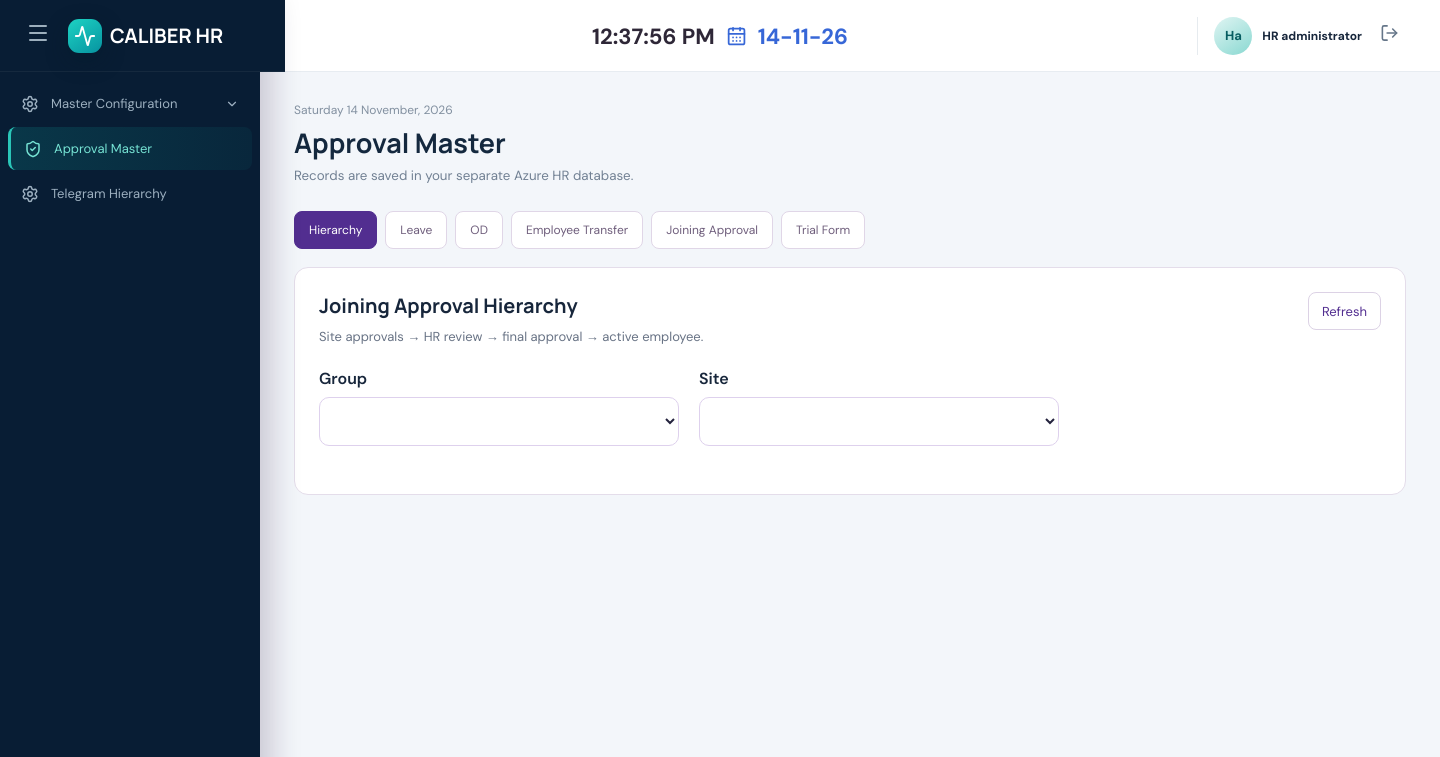
Scenario: opens the existing hierarchy setup screens from Approval Master
Expected: the button "Approval Master" is shown, left=8, top=127, right=252, bottom=170
Expected: the heading "Joining Approval Hierarchy" is shown, left=319, top=292, right=578, bottom=319
What coordinates should you click on to do the following:
click the button "Leave"
I would click on:
 (416, 230)
Its box is left=385, top=211, right=447, bottom=249.
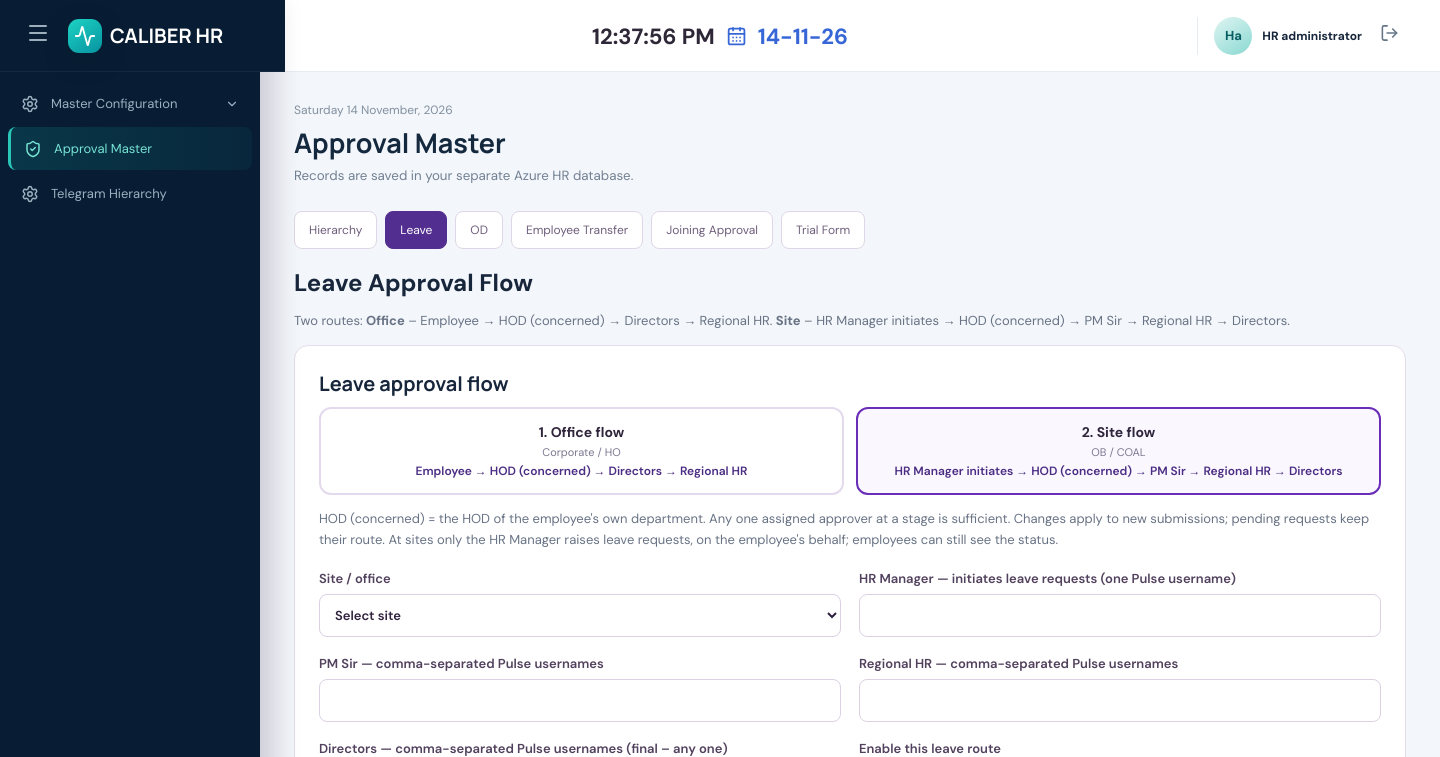
Expected: the heading "Leave Approval Flow" is shown, left=294, top=267, right=533, bottom=298
What coordinates should you click on to do the following:
click the button "OD"
I would click on:
 (479, 230)
Its box is left=455, top=211, right=503, bottom=249.
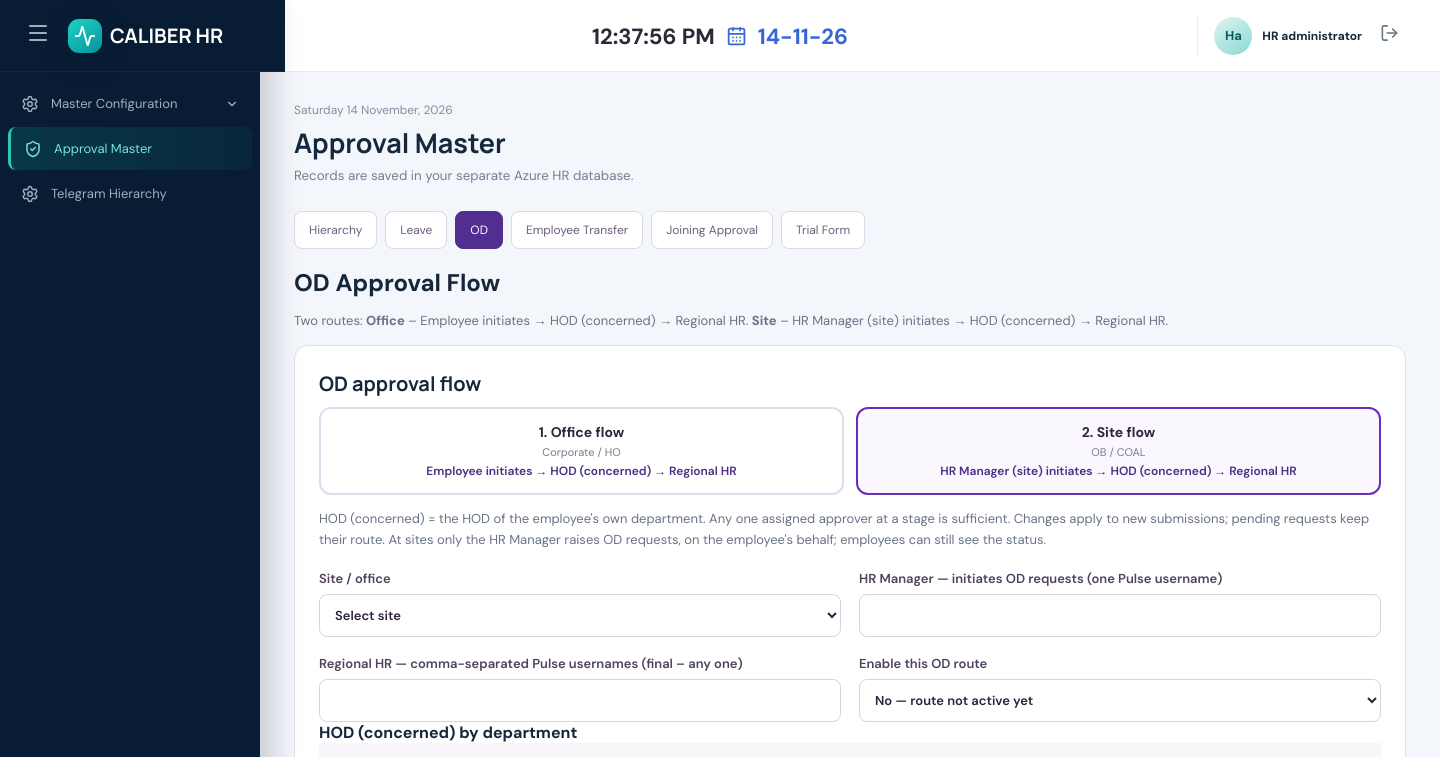
Expected: the heading "OD Approval Flow" is shown, left=294, top=267, right=500, bottom=298
What coordinates should you click on to do the following:
click the button "Hierarchy"
I would click on:
 (336, 230)
Its box is left=294, top=211, right=377, bottom=249.
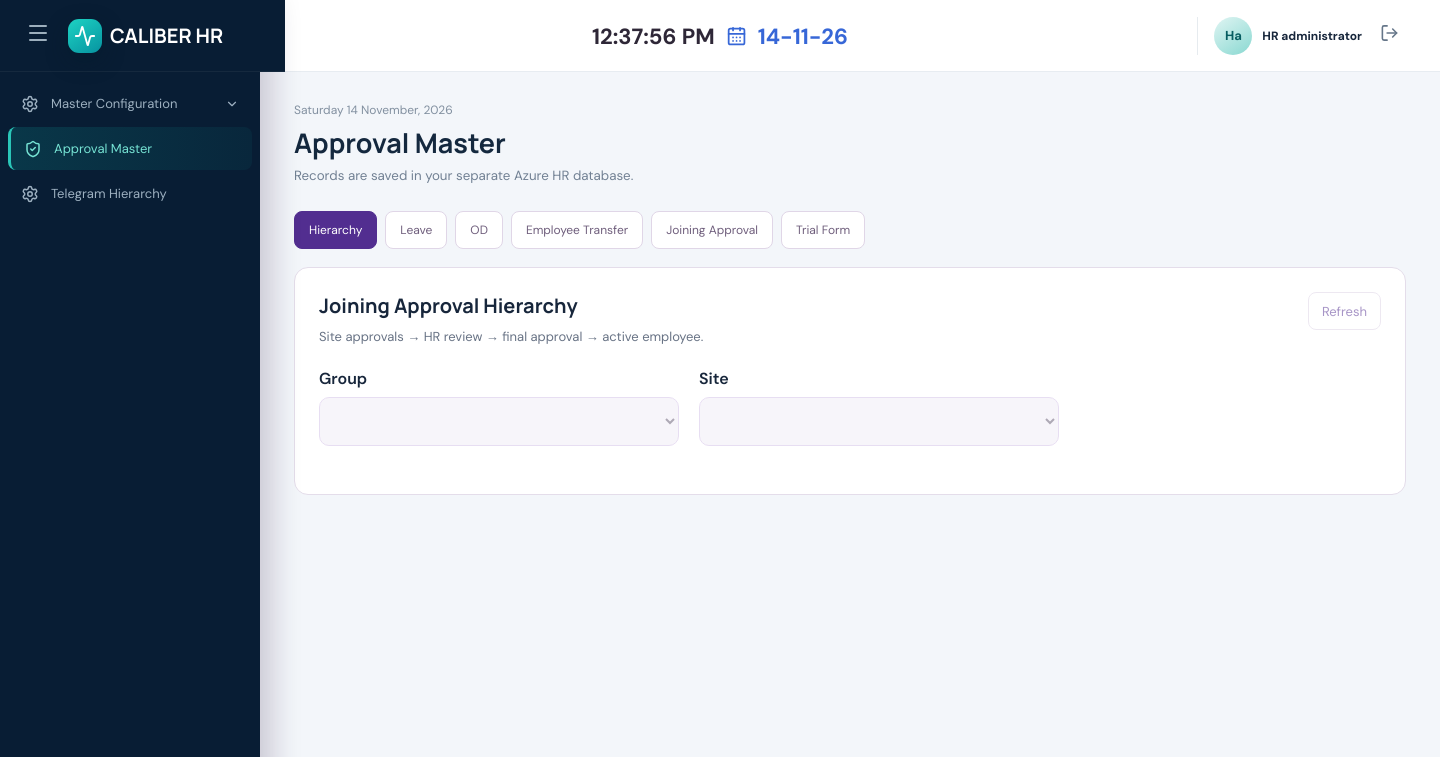
Expected: the heading "Joining Approval Hierarchy" is shown, left=319, top=292, right=578, bottom=319
